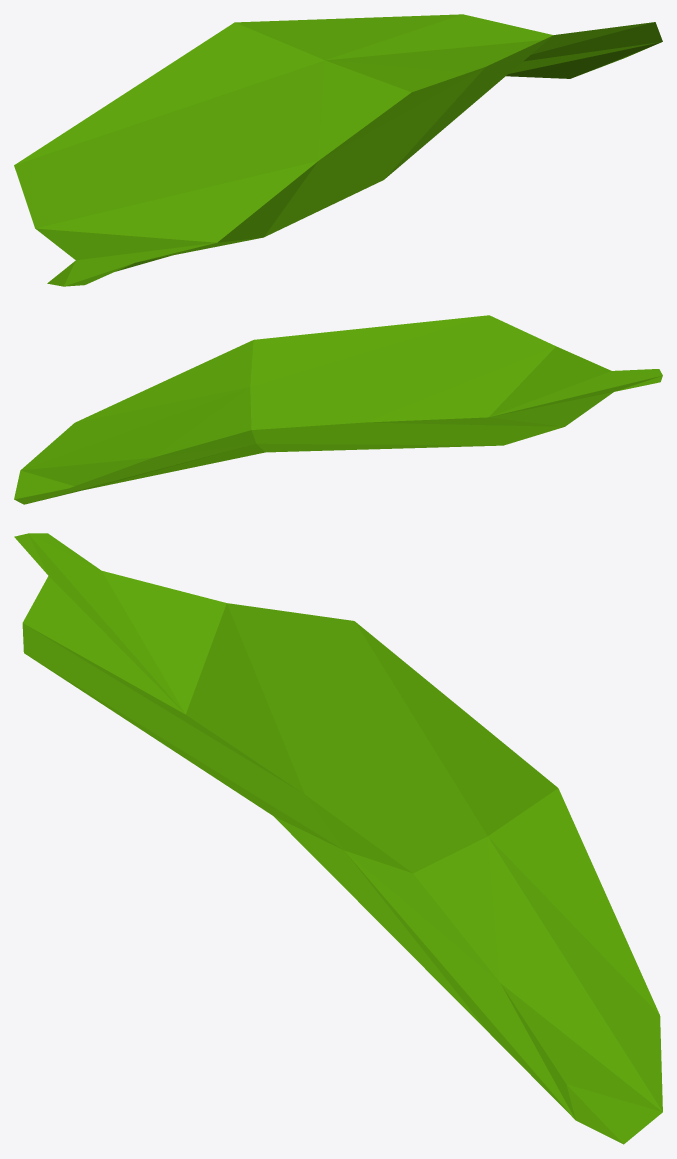
Rendered from RevolverLeaf.fbx.
3 renders of one model, top to bottom at view 1: azimuth 30°, elevation 25°; view 2: azimuth 150°, elevation 25°; view 3: azimuth 270°, elevation 25°, orthographic. The views are drawn at different scales.
Parts seen in each view (by area): view 1: Leafcluster1.001; view 2: Leafcluster1.001; view 3: Leafcluster1.001.
Boxes of the visible parts, x1=… form: Leafcluster1.001: x1=14, y1=14, x2=662, y2=286; Leafcluster1.001: x1=14, y1=315, x2=662, y2=504; Leafcluster1.001: x1=14, y1=533, x2=662, y2=1144.
Bounding box in the file's own units: 10.88 × 2.82 × 7.15.
